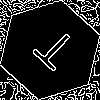T: (25, 25, 80, 79)
